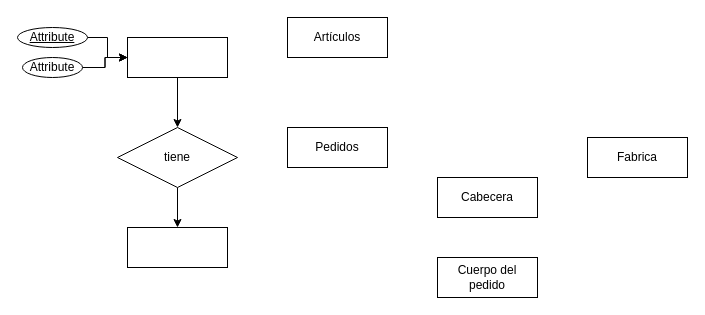
Image size: 705x315. Some labels were removed from this diagram. Each missing label, with the box of its shape:
Clientes: (126, 36, 228, 78)
Direcciones de envio: (126, 226, 228, 268)
